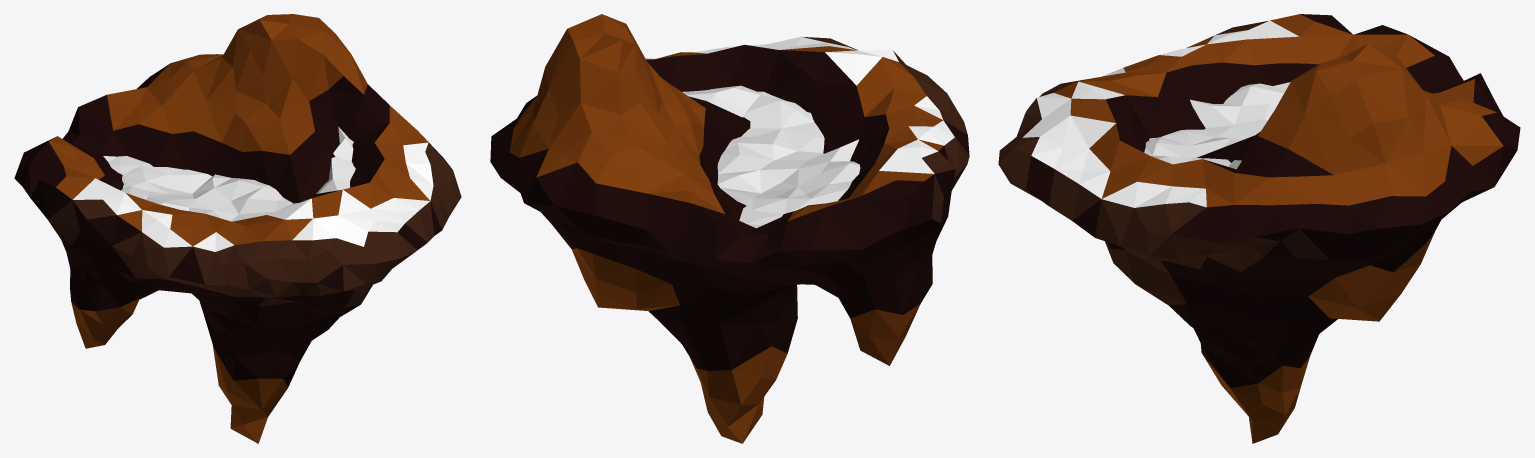
Rendered from floating_island_tv.fbx.
3 renders of one model, left to right at view 1: azimuth 30°, elevation 25°; view 2: azimuth 150°, elevation 25°; view 3: azimuth 270°, elevation 25°, orthographic. The views are drawn at different scales.
Visible parts, largest first — view 1: land, water; view 2: land, water; view 3: land, water.
Boxes of the visible parts, box(x1,y1,x2,y2) form: land: box(14, 14, 461, 443); water: box(103, 126, 355, 221); land: box(490, 14, 969, 443); water: box(682, 85, 860, 228); land: box(998, 14, 1520, 443); water: box(1144, 82, 1290, 169).
Bounding box in the file's own units: 2399 × 2397 × 2642.
